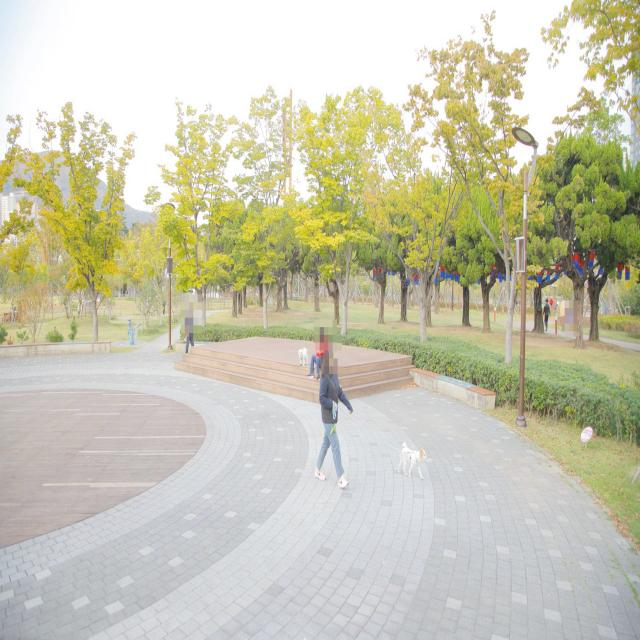Leashed_Dog: (332, 401, 428, 481), (298, 347, 321, 368)
